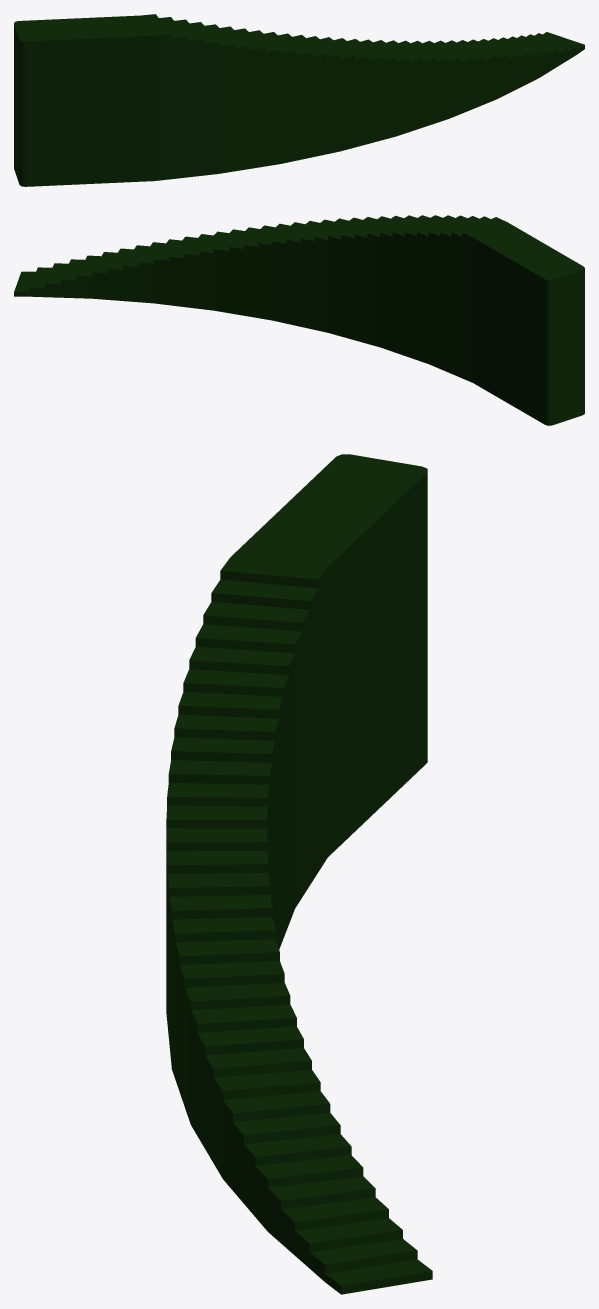
The model's file is stairs2.fbx.
The picture shows the model from 3 angles, top to bottom: view 1: azimuth 30°, elevation 25°; view 2: azimuth 150°, elevation 25°; view 3: azimuth 270°, elevation 25°; orthographic projection. The views are drawn at different scales.
Visible parts, largest first — view 1: stairs2; view 2: stairs2; view 3: stairs2.
Part boxes in pixels (left/top/right/bottom): stairs2: left=14, top=14, right=584, bottom=186; stairs2: left=14, top=215, right=584, bottom=425; stairs2: left=166, top=454, right=432, bottom=1294.
Bounding box in the file's own units: 19.92 × 4.91 × 4.08.
